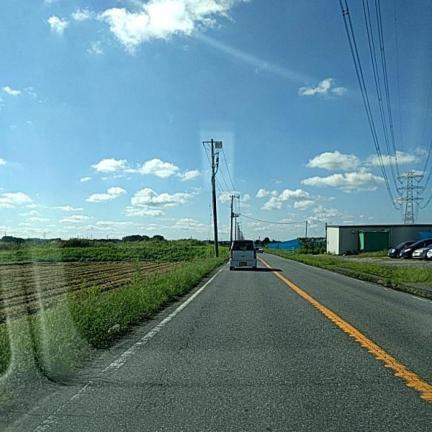Road: (11, 254, 431, 431)
